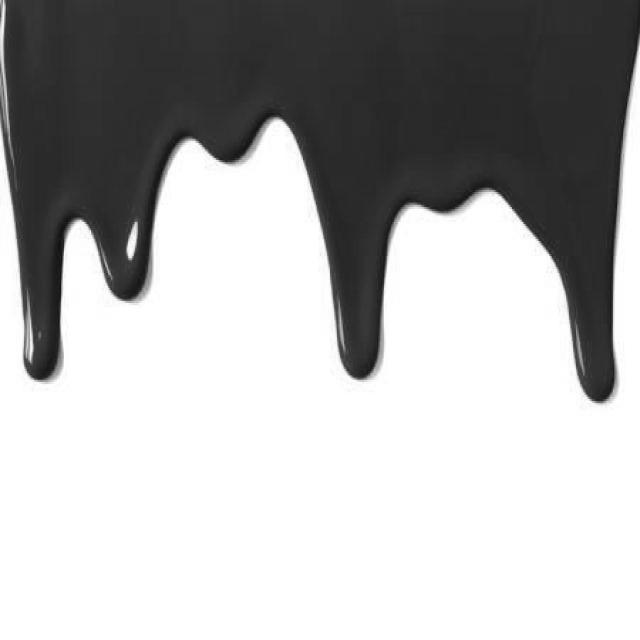paint drips: (256, 23, 406, 405), (11, 76, 154, 412), (372, 64, 552, 318), (105, 48, 276, 310), (538, 27, 634, 430)
